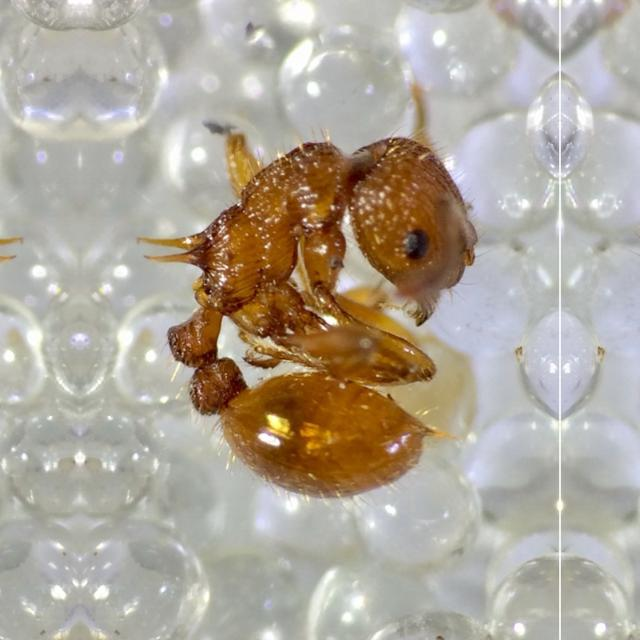Myrmica: (114, 46, 496, 544)
